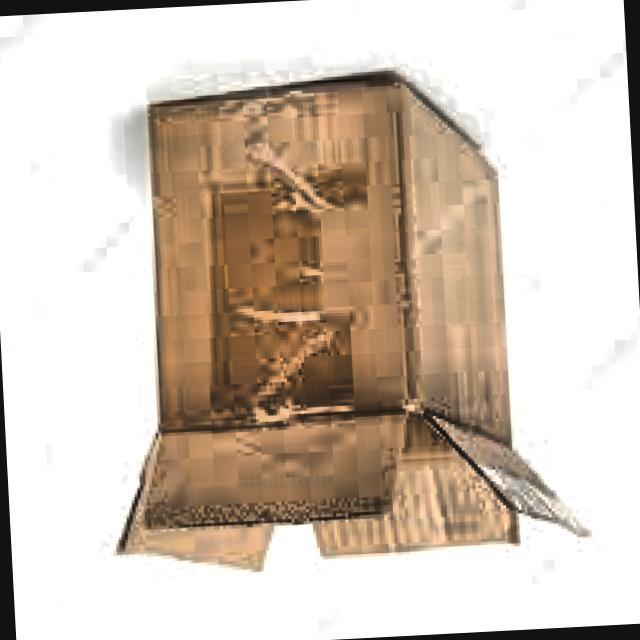cardboard: (92, 65, 593, 582)
